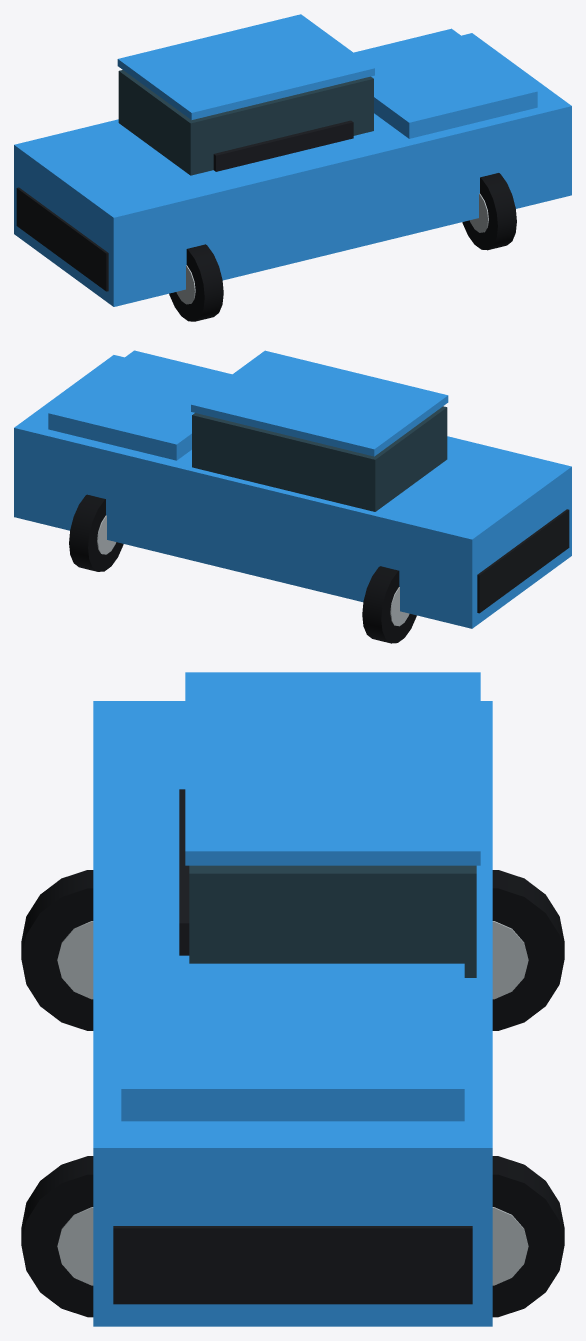
Rendered from ford_windstar.glb.
The picture shows the model from 3 angles, top to bottom: view 1: azimuth 30°, elevation 25°; view 2: azimuth 150°, elevation 25°; view 3: azimuth 270°, elevation 25°; orthographic projection. The views are drawn at different scales.
Parts seen in each view (by area): view 1: body, roof, hood, cabin, rear_bumper, rear_right_wheel, front_right_wheel, interior; view 2: body, roof, cabin, hood, rear_bumper, rear_left_wheel, front_left_wheel; view 3: body, roof, hood, cabin, front_bumper, front_left_wheel, front_right_wheel, rear_left_wheel, rear_right_wheel, interior.
Part boxes in pixels (x1,y1,x2,y2): body: [14, 33, 571, 306]; roof: [117, 14, 374, 119]; hood: [354, 28, 537, 138]; cabin: [118, 70, 373, 175]; rear_bumper: [16, 187, 108, 291]; rear_right_wheel: [169, 244, 223, 321]; front_right_wheel: [462, 173, 516, 250]; interior: [213, 120, 353, 171]; body: [14, 355, 571, 628]; roof: [191, 350, 448, 456]; cabin: [192, 406, 447, 511]; hood: [48, 350, 231, 460]; rear_bumper: [477, 509, 569, 613]; rear_left_wheel: [362, 566, 416, 643]; front_left_wheel: [69, 494, 123, 571]; body: [93, 701, 492, 1326]; roof: [185, 672, 480, 865]; hood: [121, 963, 464, 1121]; cabin: [189, 865, 476, 977]; front_bumper: [113, 1226, 472, 1304]; front_left_wheel: [492, 1156, 564, 1317]; front_right_wheel: [21, 1156, 93, 1317]; rear_left_wheel: [492, 870, 564, 1030]; rear_right_wheel: [21, 870, 93, 1030]; interior: [179, 789, 189, 955].
Bounding box in the file's own units: 5.35 × 2.03 × 2.72.
